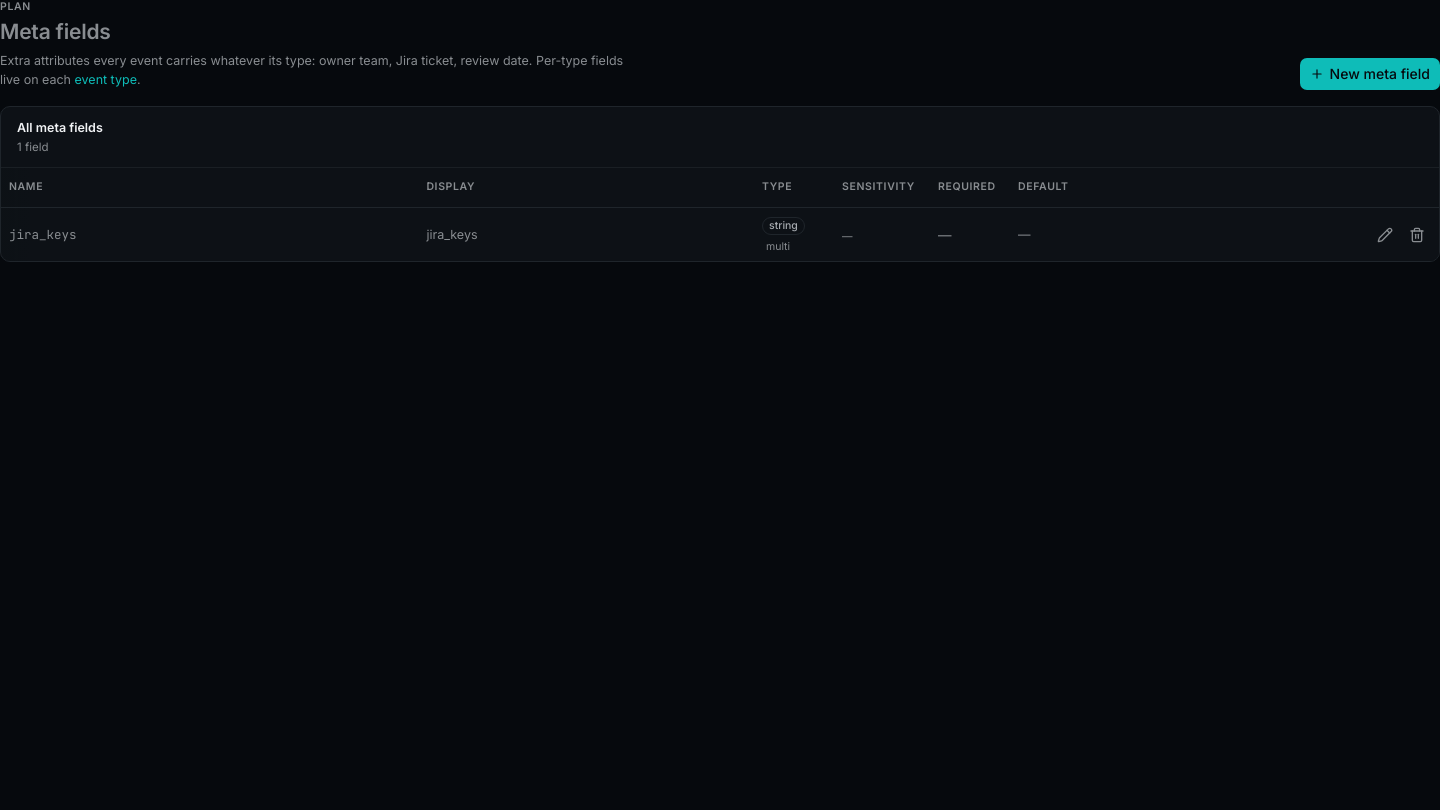
Test: MetaFieldsTab — Allow multiple (tripl-h2sx.31) › warns that stored values stay when the flag is turned off
Click the button named "Edit jira_keys".
click(1385, 234)  # box [1371,220,1399,248]
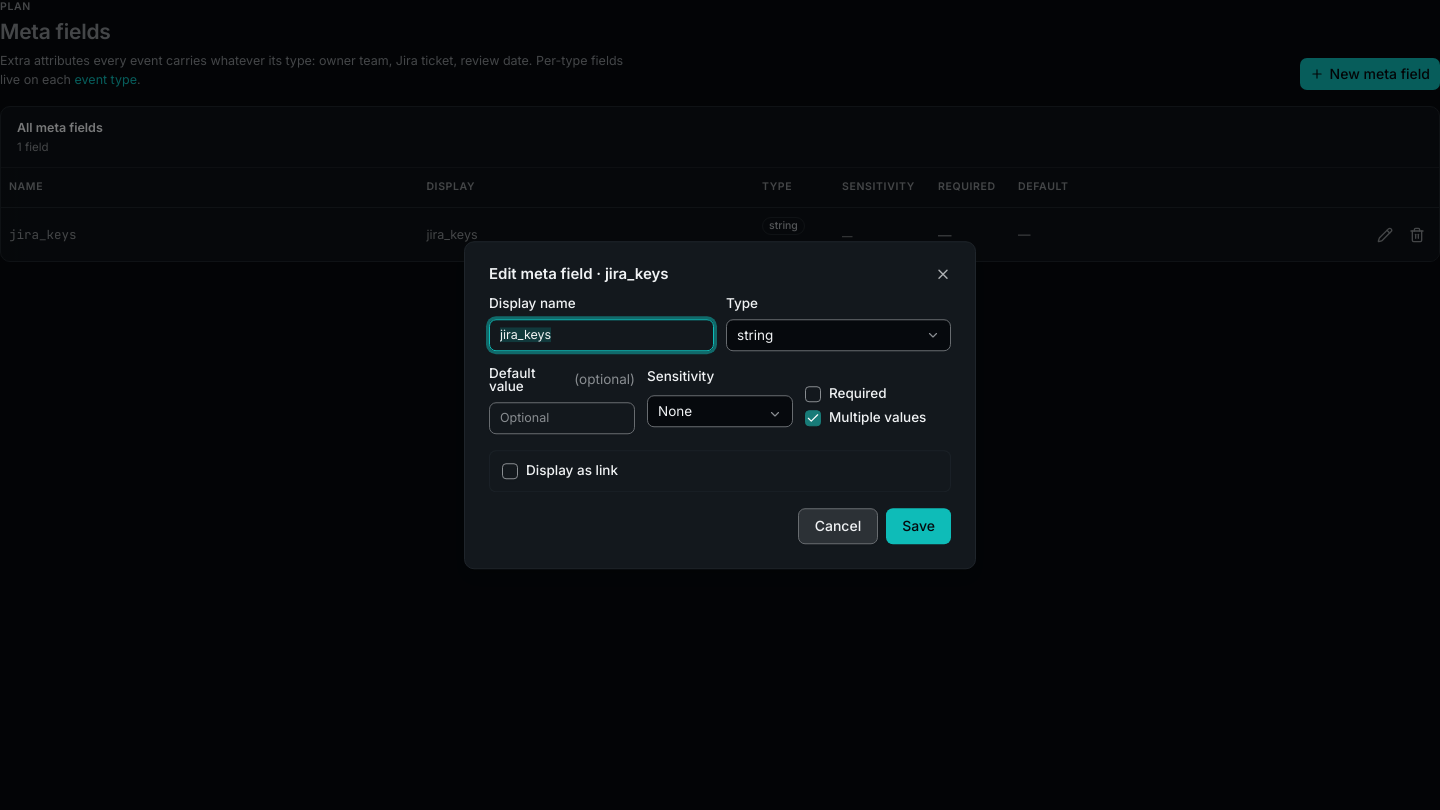
Check: the checkbox named "Multiple values" next to "Multiple values" is checked
Click the checkbox named "Multiple values" next to "Multiple values".
click(813, 418)  # box [805,410,821,426]
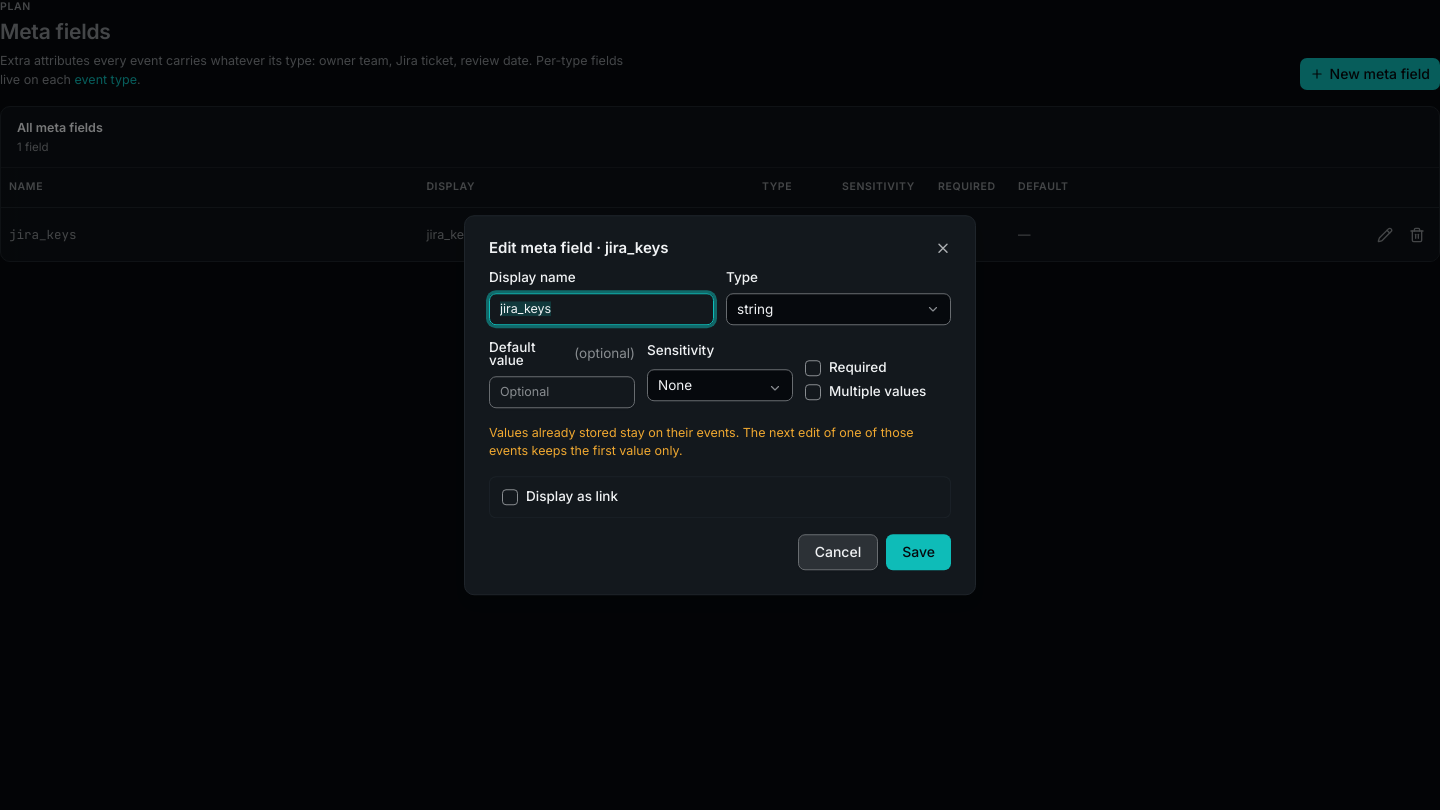
Check: the text "keeps the first value only" is shown, box [489,425,914,458]
